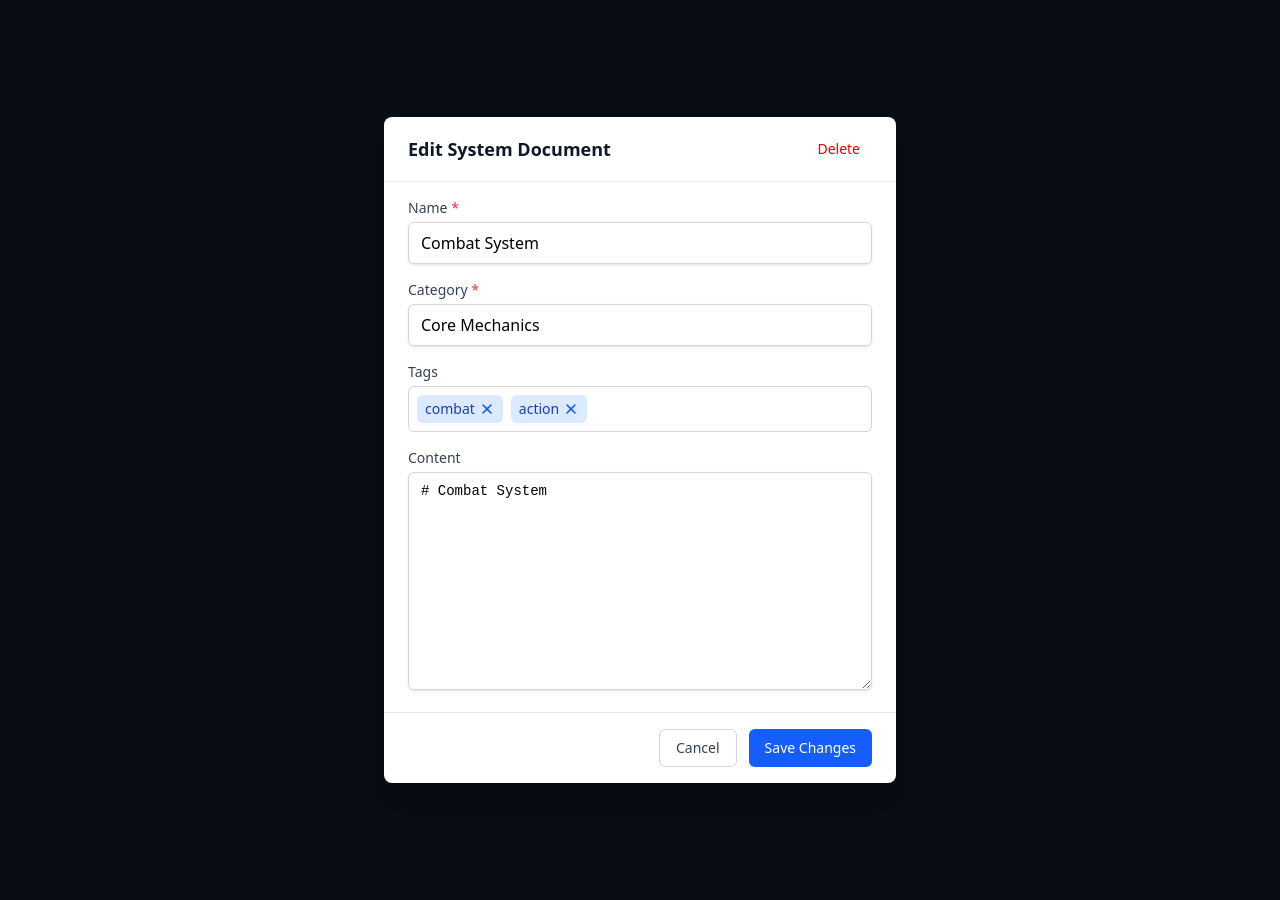
Test: SystemEditModal › Form Interactions › should disable save button when name is empty
Step 1. Clear the field labelled "Name *" → coordinates (640, 243), box 408,222 -> 872,264
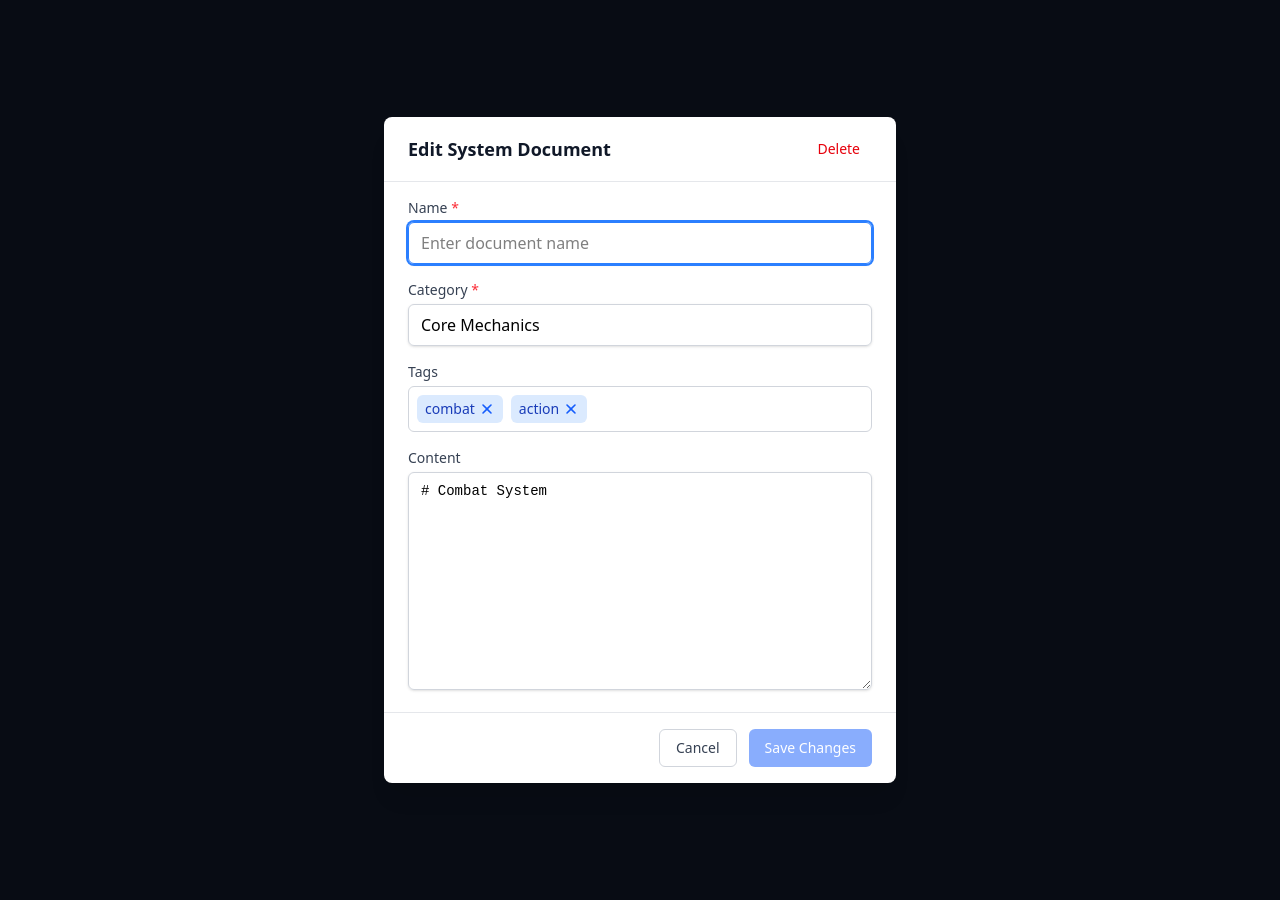
expect the button "Save Changes" is disabled: met, box 749,729 -> 872,767
